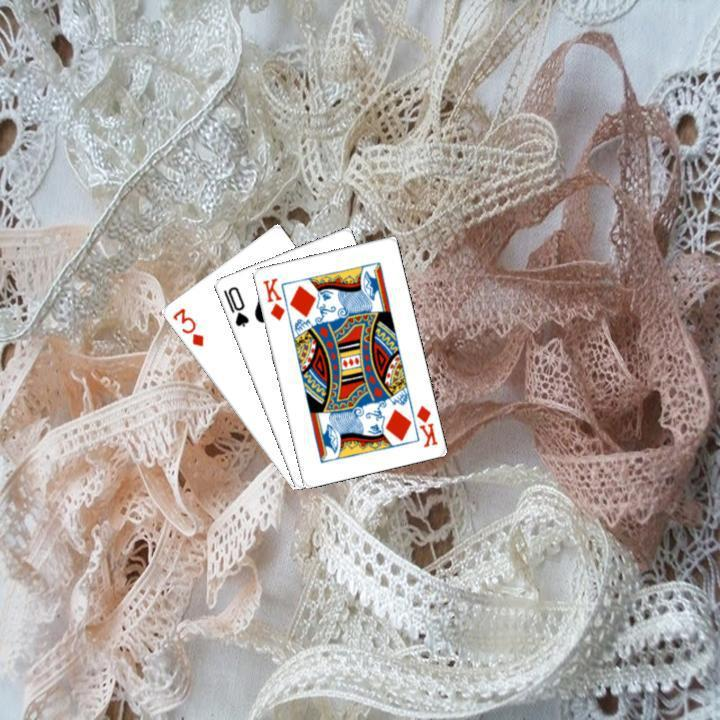10: (218, 282, 251, 329)
3: (167, 303, 206, 349)
K: (258, 273, 287, 323), (411, 401, 439, 449)
